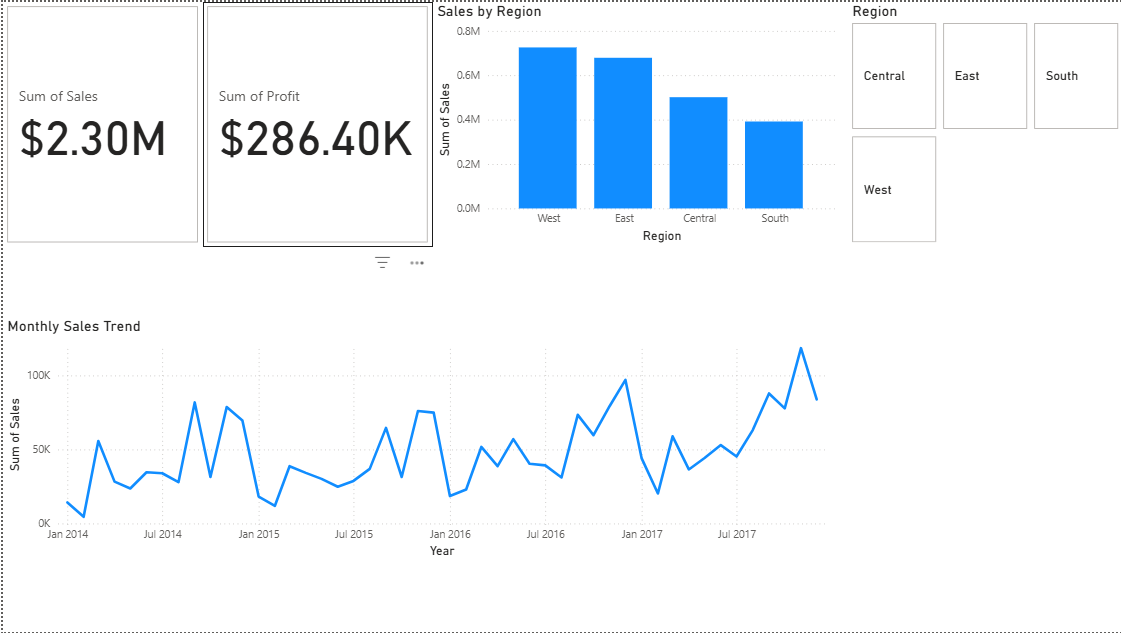

The dashboard page shown, as its layout file describes it:
{"tool":"powerbi","page":{"name":"Page 1","canvas":[1280,720],"ordinal":0},"visuals":[{"type":"lineChart","title":"Monthly Sales Trend","fields":{"Y":["Sum(sample_cleaned.Sales)"],"Category":["sample_cleaned.Order Date.Variation.Date Hierarchy.Year","sample_cleaned.Order Date.Variation.Date Hierarchy.Month"]},"box":[0,360,957.1,280],"z":0},{"type":"clusteredColumnChart","title":"Sales by Region","fields":{"Category":["sample_cleaned.Region"],"Y":["Sum(sample_cleaned.Sales)"]},"box":[491.3,0,465.2,279.9],"z":1000},{"type":"cardVisual","title":"Total Sales","fields":{"Data":["Sum(sample_cleaned.Sales)"]},"box":[0,0,228.6,280],"z":2000},{"type":"cardVisual","fields":{"Data":["Sum(sample_cleaned.Profit)"]},"box":[228.6,0,262.9,280],"z":3000},{"type":"advancedSlicerVisual","fields":{"Values":["sample_cleaned.Region"]},"box":[965.7,0,314.3,280],"z":4000}]}

Visuals, with their boxes in screenshot pixels (x1, y1, x2, y2), scaled from the page's 1280x720 canvas onto the 1121x633 screenshot:
"Monthly Sales Trend" lineChart: [0, 316, 838, 563]
"Sales by Region" clusteredColumnChart: [430, 0, 838, 246]
"Total Sales" cardVisual: [0, 0, 200, 246]
cardVisual - Sum(sample_cleaned.Profit): [200, 0, 430, 246]
advancedSlicerVisual - sample_cleaned.Region: [846, 0, 1120, 246]
